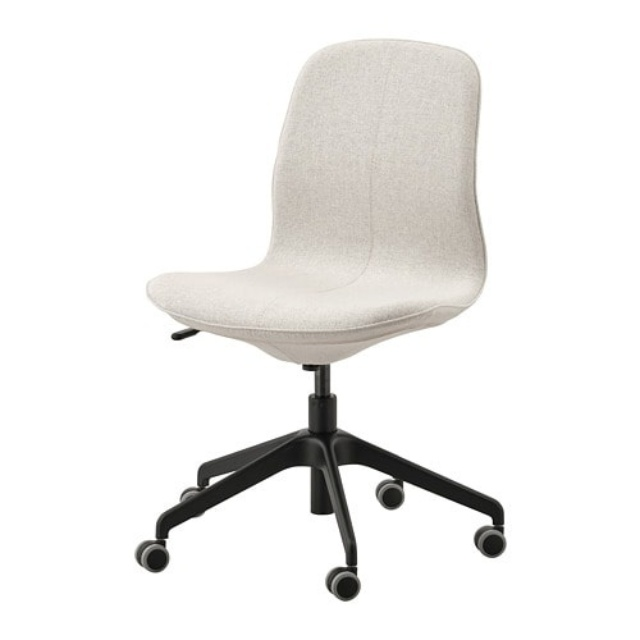obstacle: (136, 40, 504, 599)
